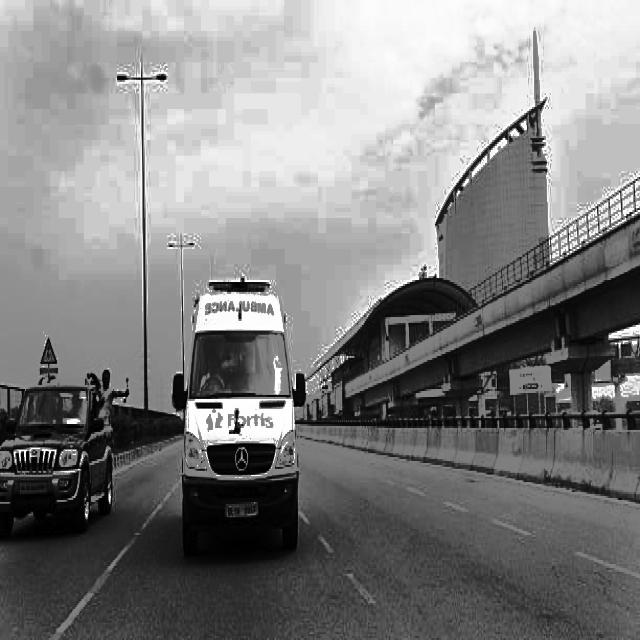Ambulance: (194, 273, 280, 355), (203, 401, 284, 457)
